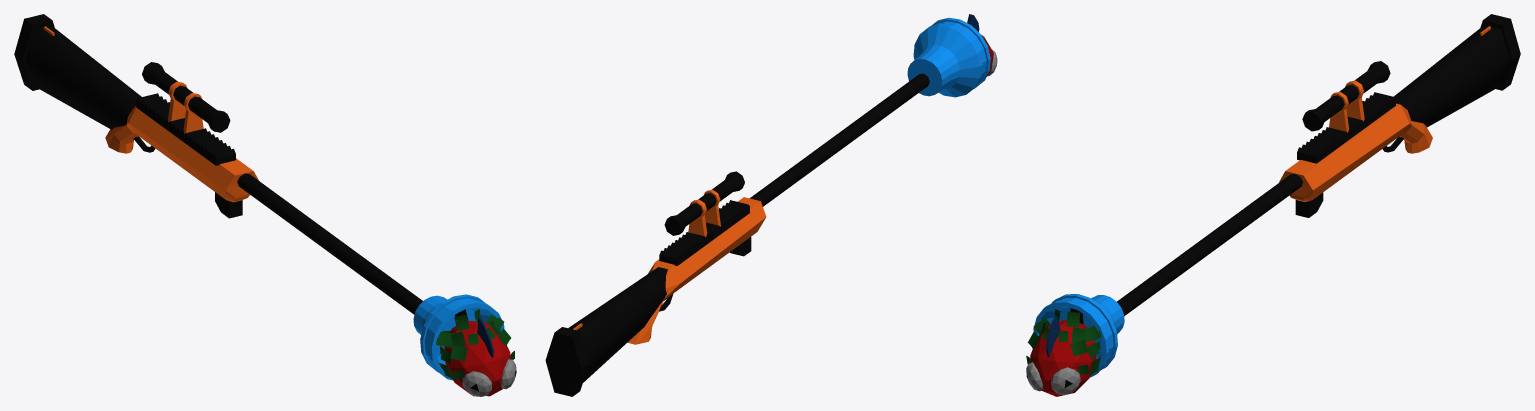
Rendered from Sniper_Explosif.fbx.
3 renders of one model, left to right at view 1: azimuth 30°, elevation 25°; view 2: azimuth 150°, elevation 25°; view 3: azimuth 330°, elevation 25°, orthographic. The views are drawn at different scales.
Parts seen in each view (by area): view 1: Sniper, Module_Explosif; view 2: Sniper, Module_Explosif; view 3: Sniper, Module_Explosif.
Boxes of the visible parts, box(x1,y1,x2,y2) form: Sniper: box(14, 14, 422, 314); Module_Explosif: box(413, 294, 516, 396); Sniper: box(545, 73, 929, 396); Module_Explosif: box(907, 14, 997, 97); Sniper: box(1117, 14, 1520, 315); Module_Explosif: box(1026, 294, 1124, 396).
Bounding box in the file's own units: 13.21 × 19.06 × 144.
